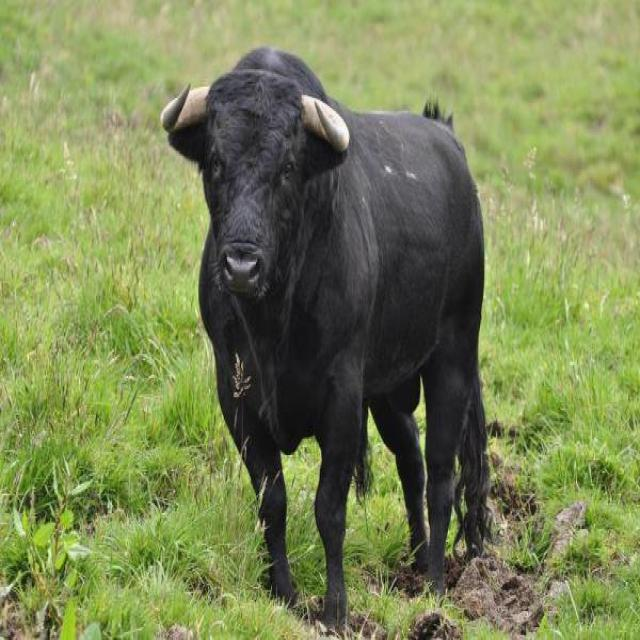Ox: (155, 43, 491, 633)
